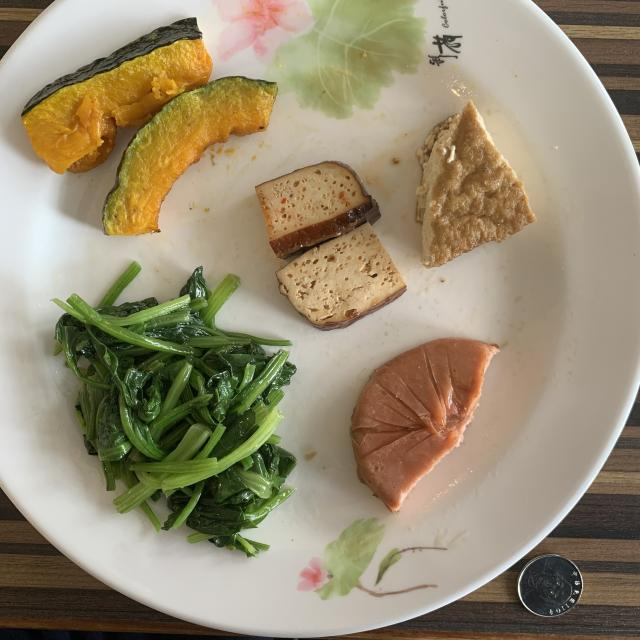Spam: (350, 338, 499, 511)
coin: (518, 555, 582, 618)
egg tofu: (416, 101, 536, 268)
firm tofu: (255, 161, 406, 330)
mustard greens: (55, 261, 296, 558)
pumpkin: (21, 18, 278, 235)
